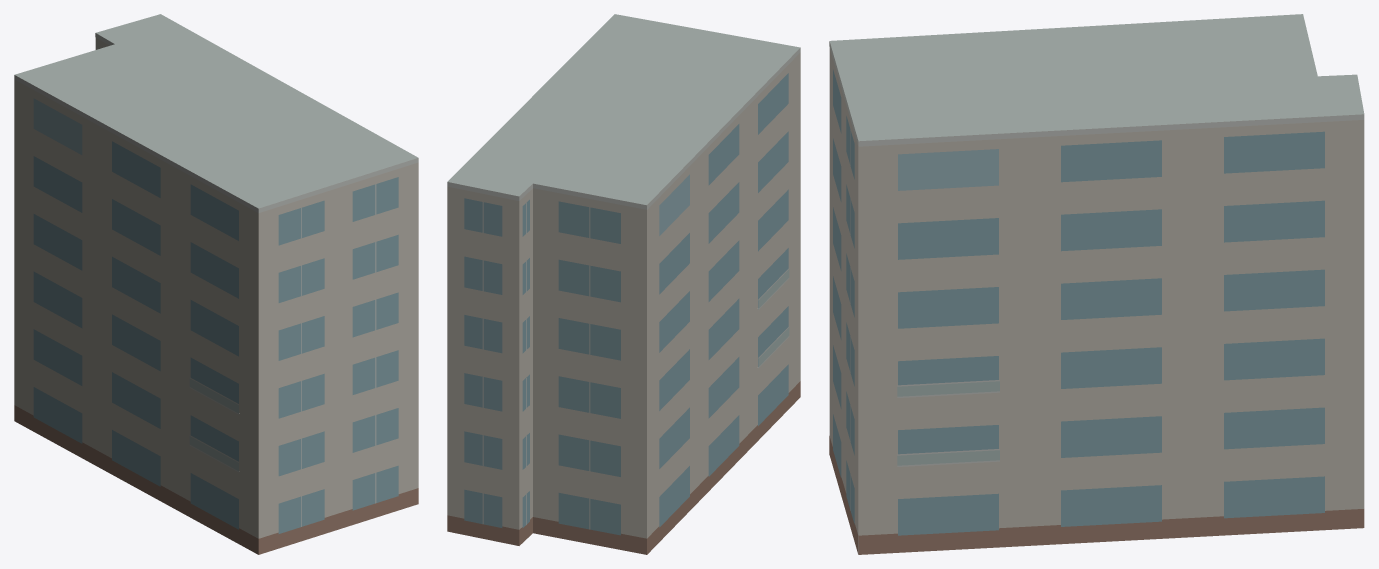
File: survey-upis-32701534.glb
3 renders of one model, left to right at view 1: azimuth 30°, elevation 25°; view 2: azimuth 150°, elevation 25°; view 3: azimuth 270°, elevation 25°, orthographic. The views are drawn at different scales.
Visible parts, largest first — view 1: survey-upis-32701534.tmp; view 2: survey-upis-32701534.tmp; view 3: survey-upis-32701534.tmp.
Part boxes in pixels (x1,y1,x2,y2): survey-upis-32701534.tmp: (14,14,418,554); survey-upis-32701534.tmp: (447,14,800,554); survey-upis-32701534.tmp: (829,14,1364,554).
Size of the model in its own units: 12.08 by 18.3 by 21.45.
